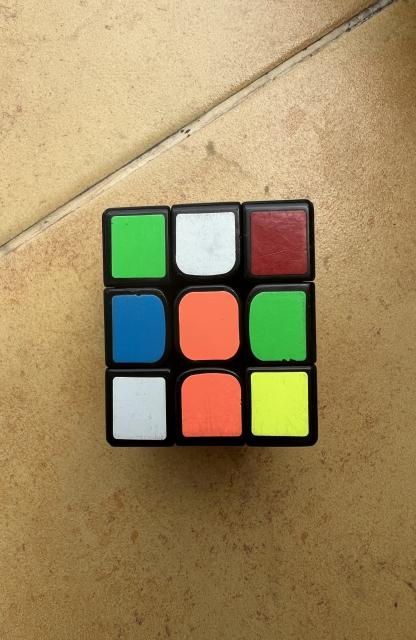Blue: (112, 295, 166, 362)
Green: (249, 291, 307, 361), (112, 215, 166, 278)
Orange: (179, 291, 239, 360), (181, 372, 242, 436)
Red: (250, 210, 308, 275)
White: (176, 212, 236, 275), (113, 376, 166, 440)
Yellow: (251, 371, 309, 436)
